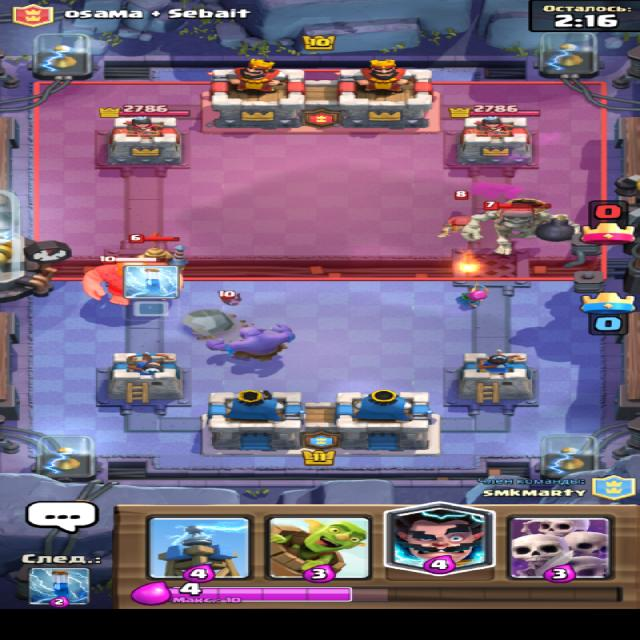Enemy-Bat: (215, 289, 242, 306)
Enemy-Giant: (80, 256, 183, 306)
Enemy-GiantSkeleton: (459, 197, 581, 255)
Enemy-Prince: (128, 231, 185, 266)
Enemy-Wizard: (433, 190, 476, 238)
Player-Archer: (452, 282, 489, 309)
Player-Bowler: (204, 323, 295, 362)
